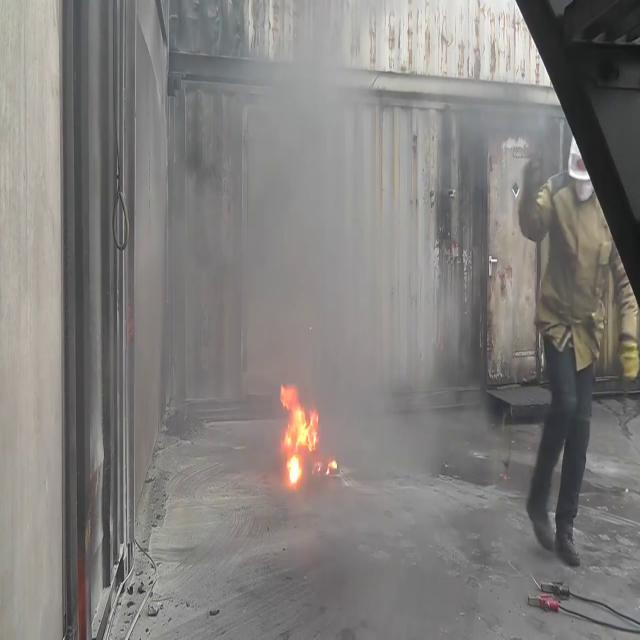Fire: (278, 380, 320, 488)
Smoke: (150, 3, 462, 446)
